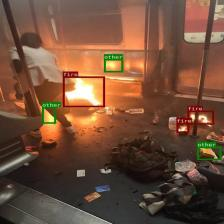fire: (62, 76, 104, 107), (187, 110, 214, 124), (176, 122, 189, 132)
